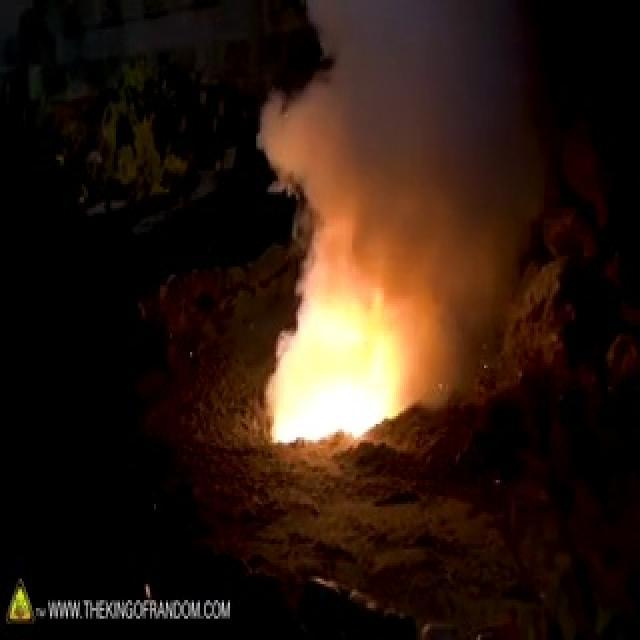fire: (259, 269, 407, 448)
